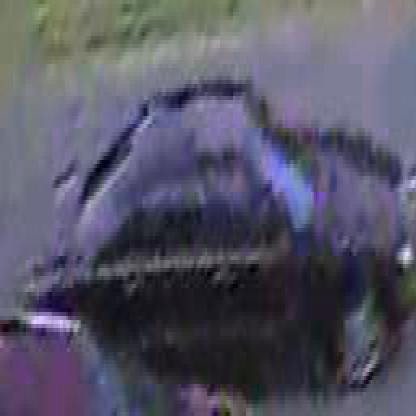car: (63, 89, 416, 405)
